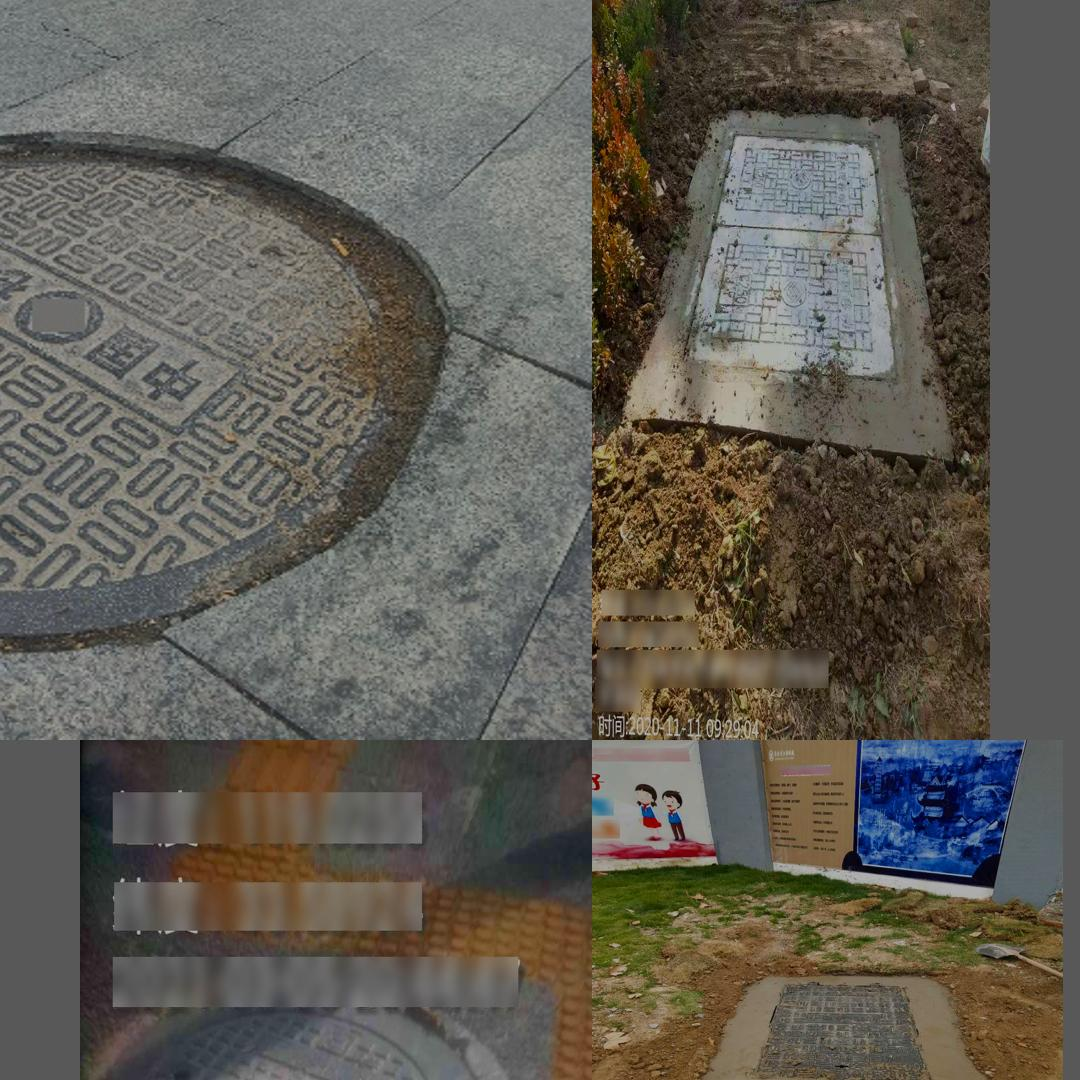good: (0, 153, 415, 633), (642, 92, 948, 423), (84, 989, 488, 1080), (752, 982, 937, 1080)
